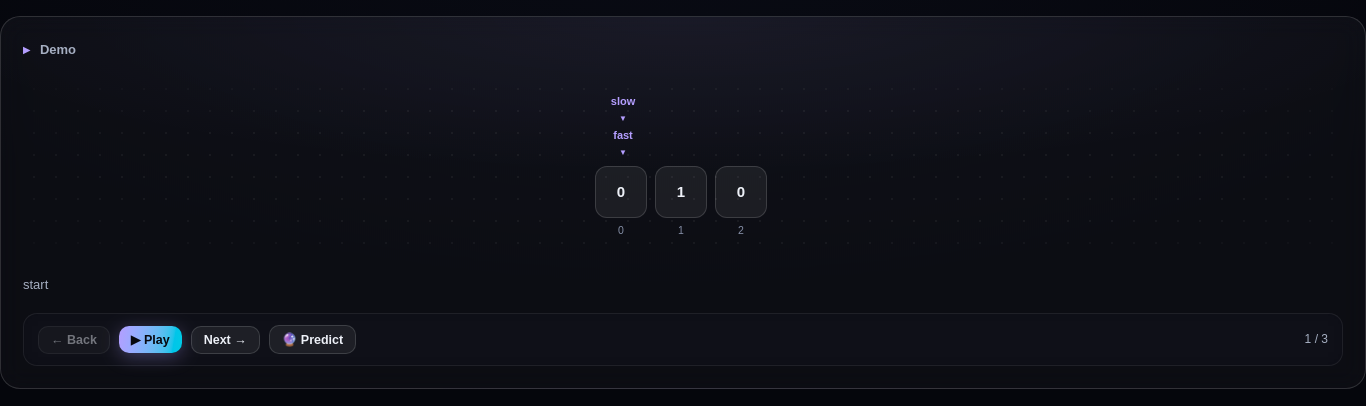
Test: (9) predict mode disables autoplay › keeps Play enabled while off and disables it while on
Check: the button "▶ Play" is enabled, box [119,326,182,353]
Step 1. Click the button "🔮 Predict" → (313, 340), box [269,325,356,354]
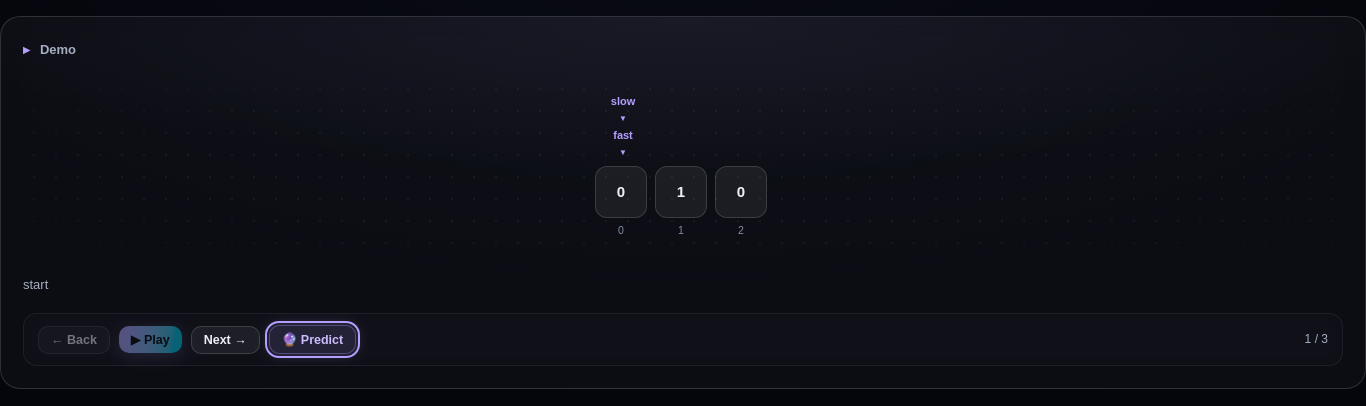
Check: the button "▶ Play" is disabled, box [119,326,182,353]
Turning it back off restores autoplay.
Step 2. Click the button "🔮 Predict" → (313, 340), box [269,325,356,354]
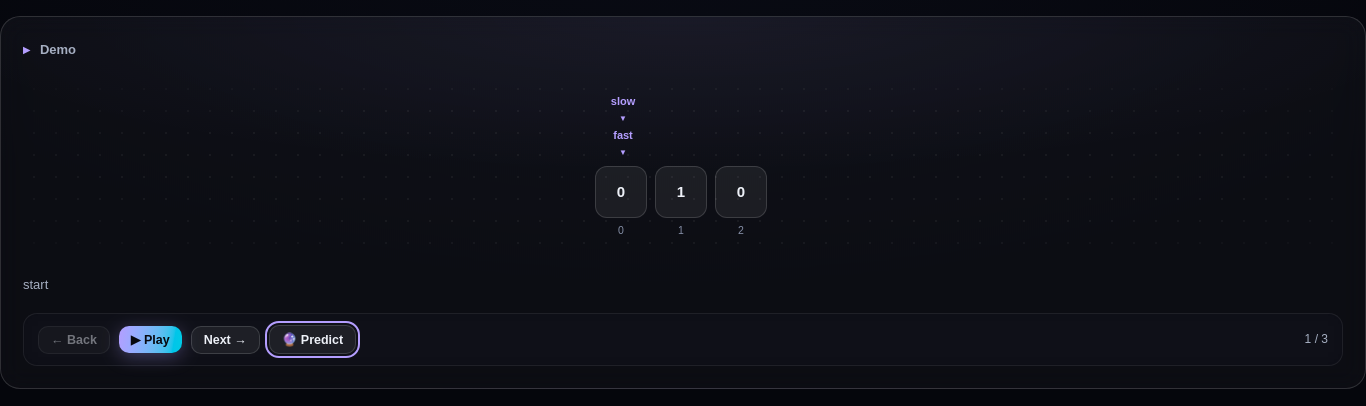
Check: the button "▶ Play" is enabled, box [119,326,182,353]
